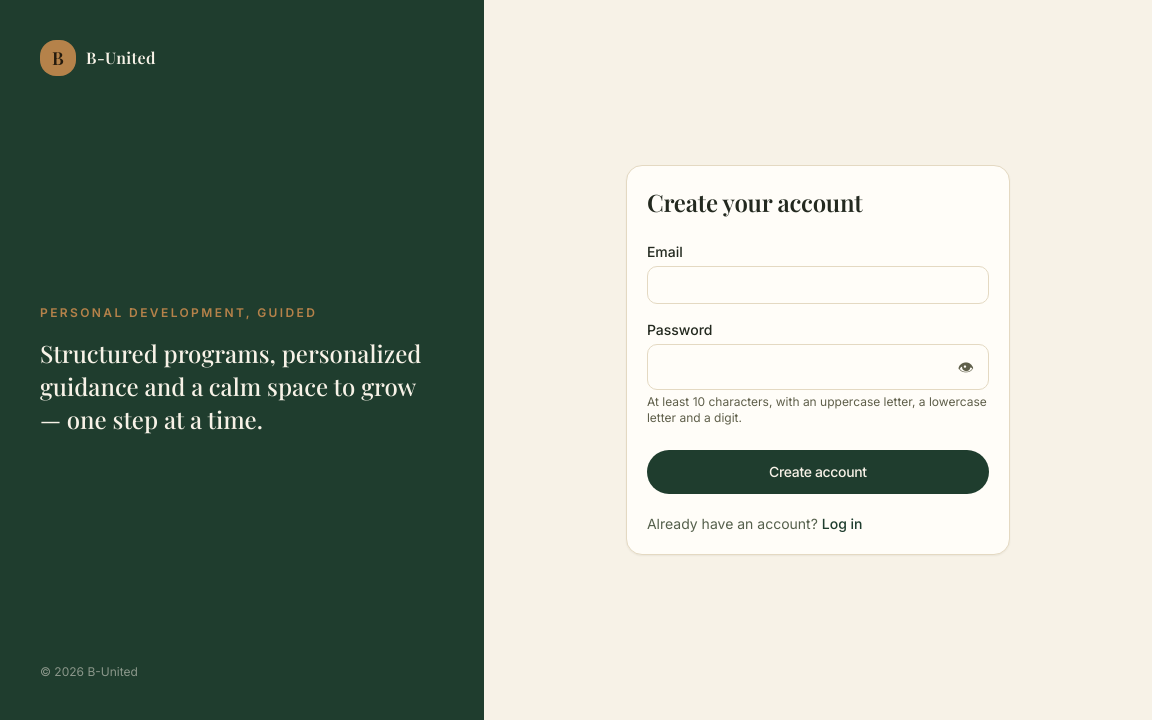
Test case: RegisterPage › shows the verification-pending screen on success, without logging the user in
Type "ada@example.com" into the field labelled "Email". click: (818, 285)
box: [647,266,989,304]
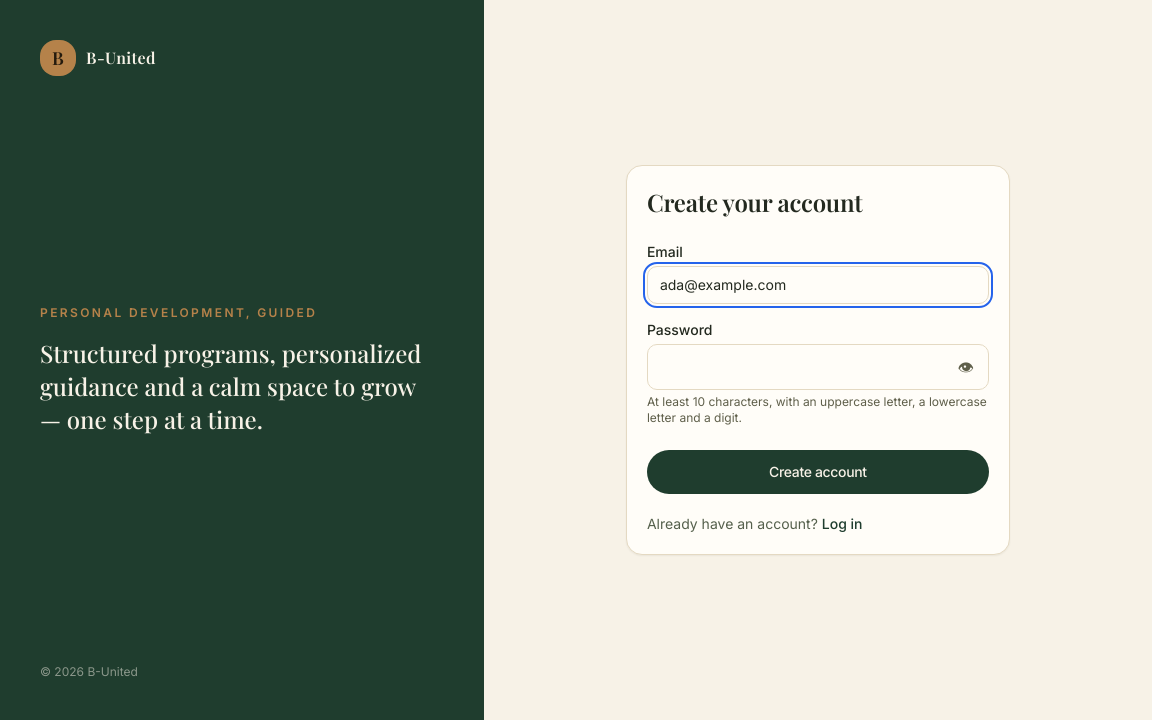
Type "StrongPass123" into the password field labelled "Password". click: (796, 367)
box: [648,349,944,385]
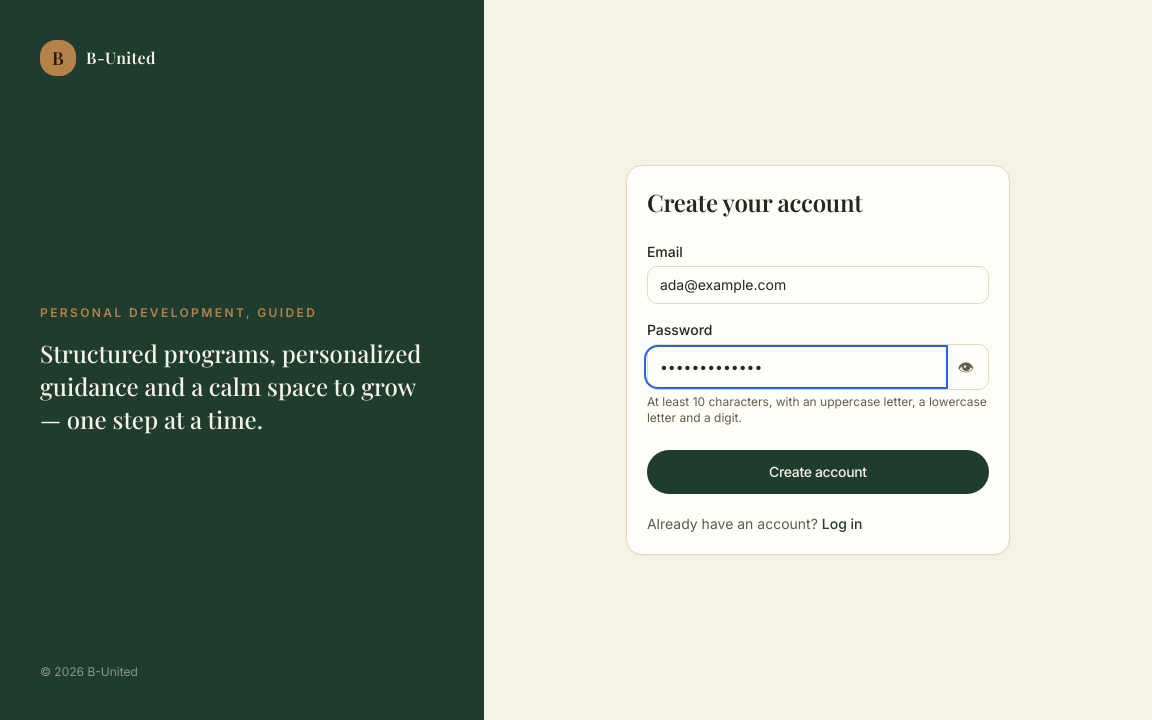
Click the button "Create account". click: (818, 472)
box: [647,450,989,494]
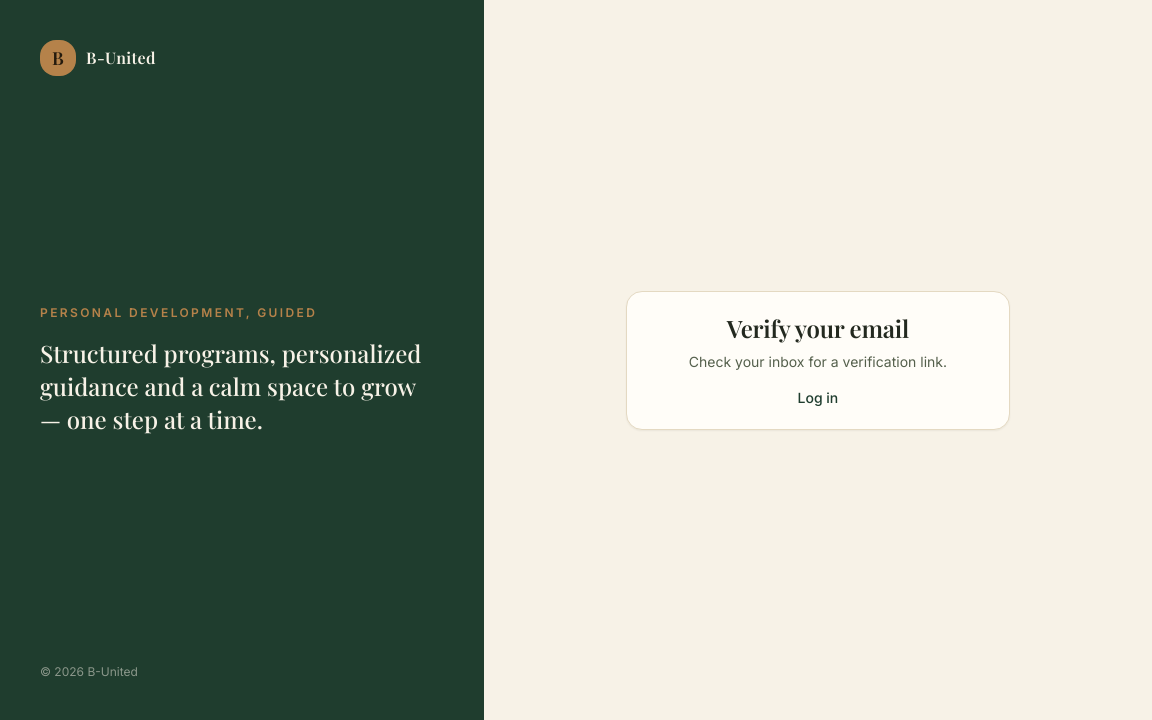
Now the text "Check your inbox for a verification link." is shown, box [689,352,947,370]
